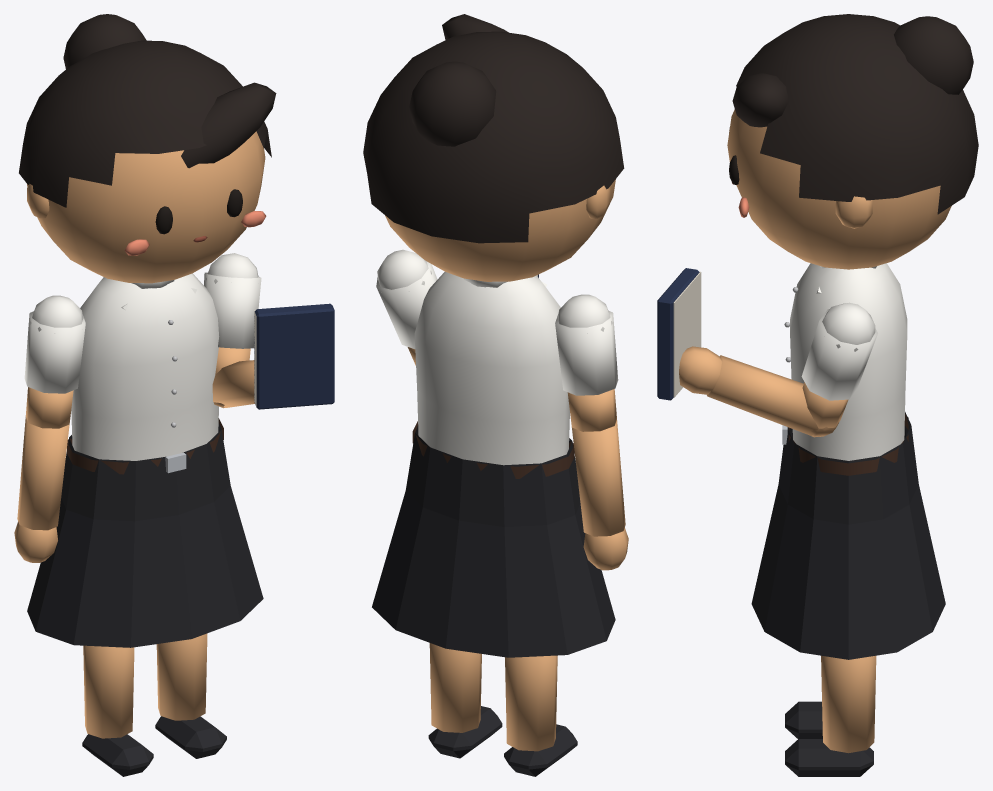
The model's file is era4_uni_student.glb.
3 renders of one model, left to right at view 1: azimuth 30°, elevation 25°; view 2: azimuth 150°, elevation 25°; view 3: azimuth 270°, elevation 25°, orthographic. The views are drawn at different scales.
Visible parts, largest first — view 1: body, head, prop_book, arm_R, shin_R, shin_L, forearm_R, arm_L, forearm_L; view 2: body, head, arm_R, shin_R, forearm_R, shin_L, arm_L; view 3: head, body, shin_L, arm_L, forearm_L, prop_book, shin_R.
Part boxes in pixels (box(x1,y1,x2,y2)): body: box(27, 273, 263, 647); head: box(19, 14, 276, 283); prop_book: box(254, 303, 334, 409); arm_R: box(24, 295, 85, 428); shin_R: box(82, 645, 153, 776); shin_L: box(155, 633, 226, 758); forearm_R: box(14, 417, 69, 562); arm_L: box(204, 253, 261, 408); forearm_L: box(212, 360, 254, 407); body: box(372, 272, 615, 657); head: box(363, 14, 624, 281); arm_R: box(555, 294, 618, 431); shin_R: box(504, 655, 577, 776); forearm_R: box(572, 420, 628, 570); shin_L: box(428, 643, 502, 758); arm_L: box(376, 249, 437, 365); head: box(727, 14, 978, 269); body: box(751, 263, 945, 659); shin_L: box(785, 655, 876, 776); arm_L: box(801, 302, 877, 437); forearm_L: box(679, 346, 839, 436); prop_book: box(657, 268, 701, 400); shin_R: box(785, 701, 822, 738).
Size of the model in its own units: 0.5277 by 1.47 by 0.5841.
